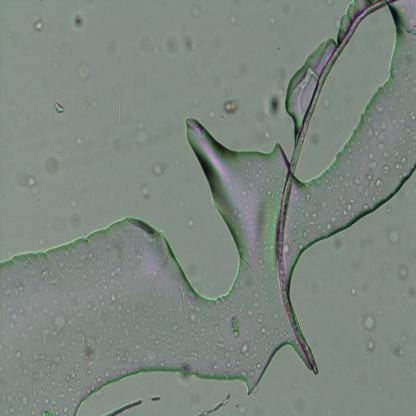Air bubble: (0, 113, 276, 416), (333, 51, 416, 253), (282, 34, 328, 128)
Background material: (106, 394, 161, 414), (255, 91, 284, 122), (198, 392, 233, 416), (15, 173, 42, 196), (391, 330, 409, 362), (136, 120, 154, 152), (69, 9, 88, 34), (183, 34, 198, 59), (183, 5, 208, 17), (222, 99, 240, 115), (168, 36, 184, 54), (362, 314, 376, 334), (77, 62, 91, 80), (139, 182, 153, 199), (31, 14, 44, 32), (183, 214, 197, 229), (116, 92, 122, 126), (46, 157, 58, 174), (389, 228, 400, 246), (152, 162, 164, 177), (366, 337, 376, 354), (54, 99, 65, 113), (398, 266, 409, 280), (228, 12, 238, 27), (348, 285, 357, 298), (74, 135, 84, 146)
Microfibre: (275, 0, 396, 374)
